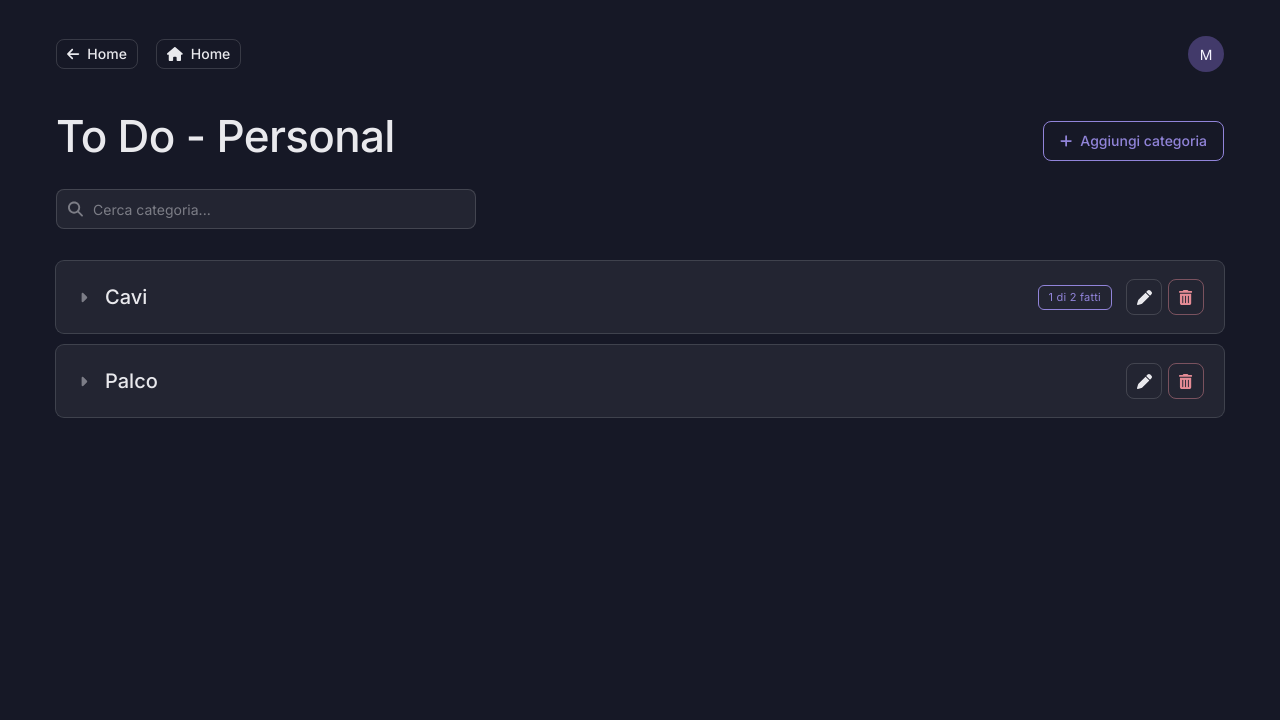
Test case: CategoryListPage › carica le categorie dell'utente e le espande al clic
Expected: the text "Comprare XLR" is not shown
Click the button "Cavi": click(126, 297) [76,285,1024,309]
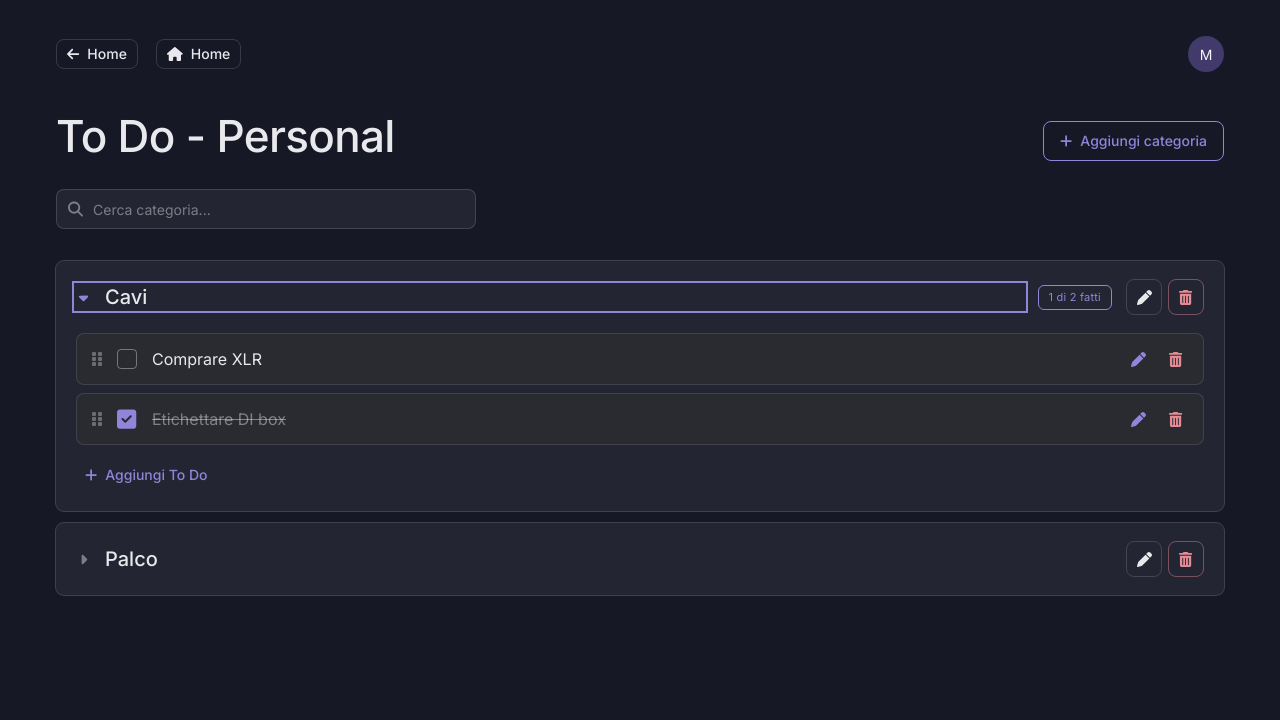
Result: the button "Cavi" is expanded at [76,285,1024,309]
Result: the text "Comprare XLR" is shown at [152,349,262,369]
